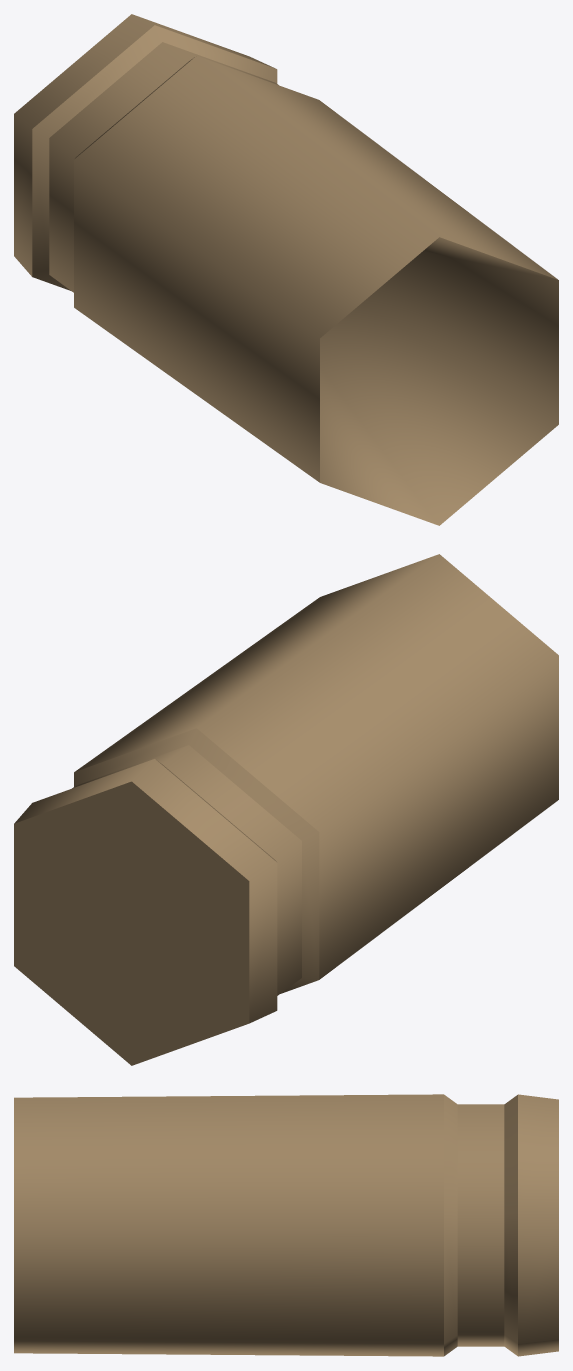
File: Cartridge.fbx
3 renders of one model, top to bottom at view 1: azimuth 30°, elevation 25°; view 2: azimuth 150°, elevation 25°; view 3: azimuth 270°, elevation 25°, orthographic. The views are drawn at different scales.
Visible parts, largest first — view 1: Cartridge; view 2: Cartridge; view 3: Cartridge.
Boxes of the visible parts, box(x1,y1,x2,y2) form: Cartridge: box(14, 14, 558, 525); Cartridge: box(14, 554, 558, 1065); Cartridge: box(14, 1094, 558, 1356).
Bounding box in the file's own units: 3.74 × 4.32 × 8.14.
